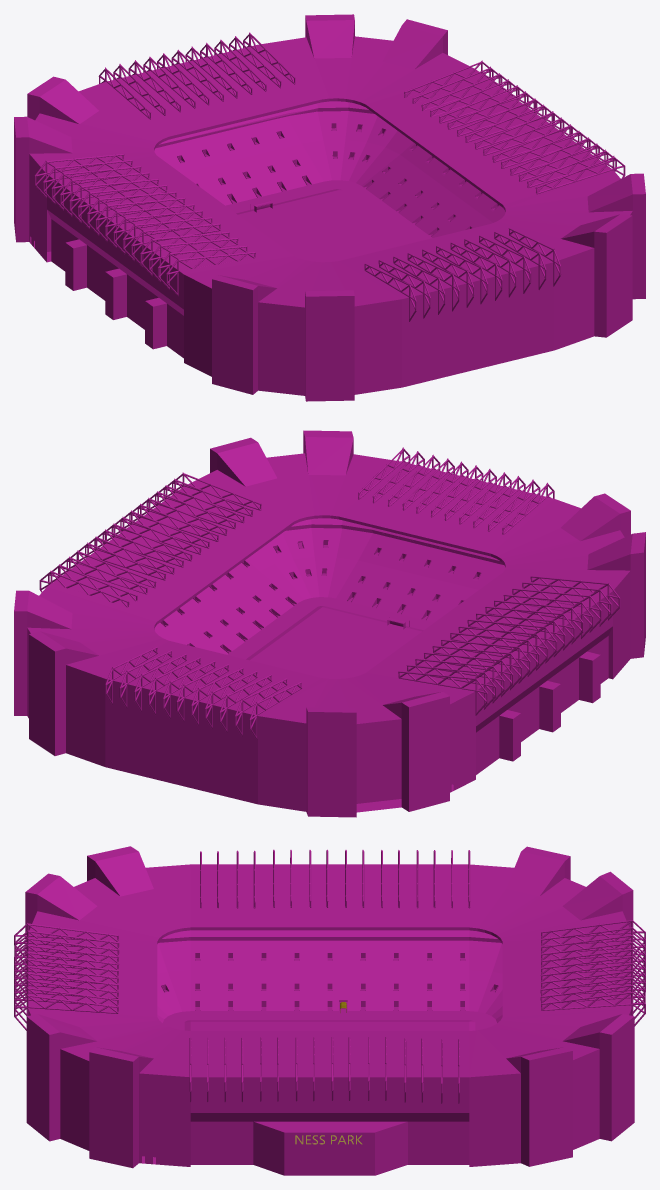
Rendered from footballstadium4.obj.
The picture shows the model from 3 angles, top to bottom: view 1: azimuth 30°, elevation 25°; view 2: azimuth 150°, elevation 25°; view 3: azimuth 270°, elevation 25°; orthographic projection.
Visible parts, largest first — view 1: skp1BF8_001; view 2: skp1BF8_001; view 3: skp1BF8_001.
Part boxes in pixels (x1,y1,x2,y2): skp1BF8_001: [14, 14, 645, 401]; skp1BF8_001: [14, 430, 645, 817]; skp1BF8_001: [14, 846, 645, 1175].
Size of the model in its own units: 210718 by 46322 by 247094.
